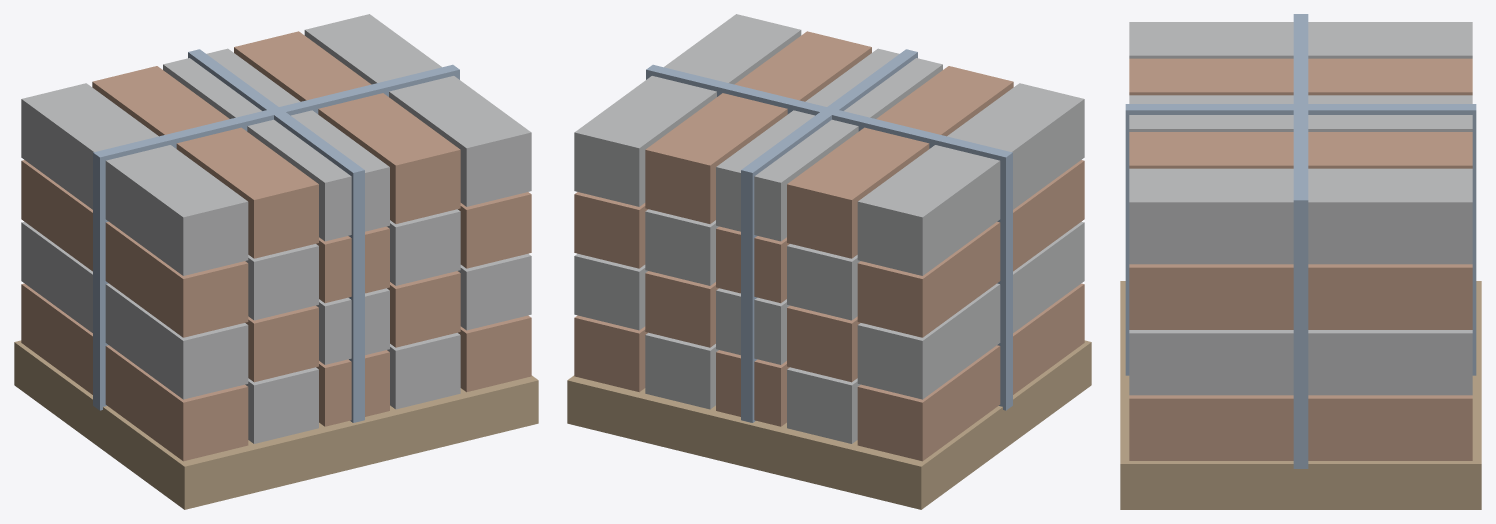
Rendered from Briket_Paleti.glb.
3 views of the same model, side by side, from view 1: azimuth 30°, elevation 25°; view 2: azimuth 150°, elevation 25°; view 3: azimuth 270°, elevation 25° (orthographic). The views are drawn at different scales.
Visible parts, largest first — view 1: Briket_Paleti; view 2: Briket_Paleti; view 3: Briket_Paleti.
Boxes of the visible parts, x1,y1,x2,y2 form: Briket_Paleti: (14,14,538,509); Briket_Paleti: (567,14,1091,509); Briket_Paleti: (1120,14,1481,509).
Bounding box in the file's own units: 1.22 × 0.95 × 1.
